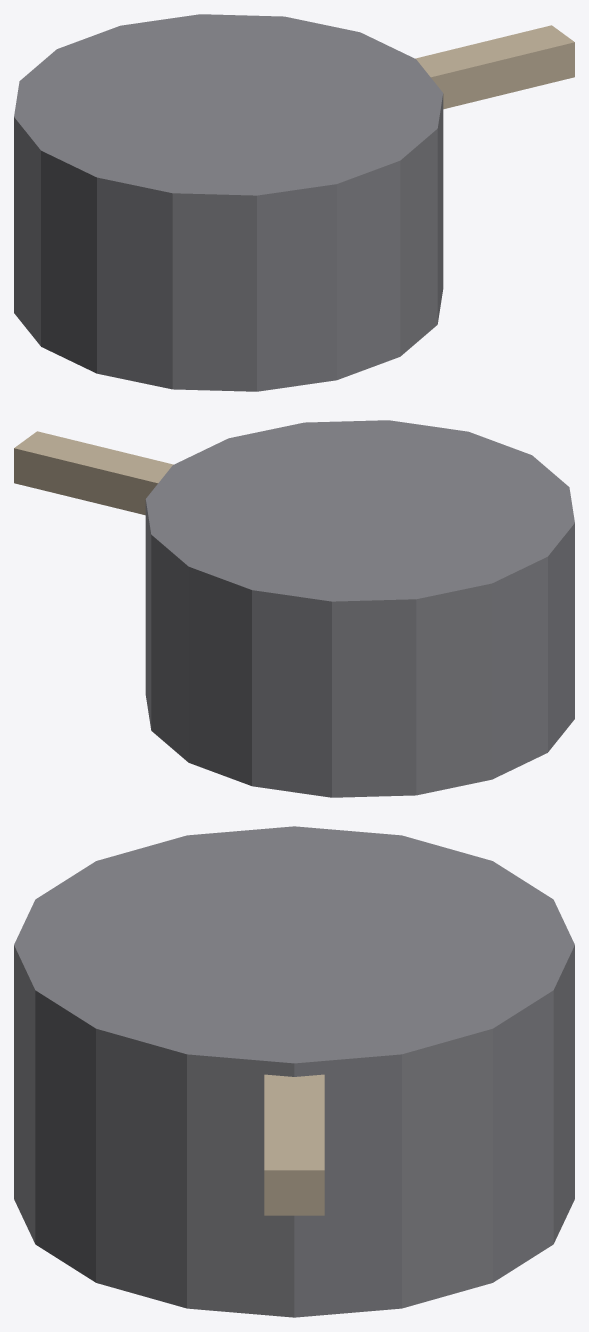
File: kit_aces_panela.glb
3 renders of one model, top to bottom at view 1: azimuth 30°, elevation 25°; view 2: azimuth 150°, elevation 25°; view 3: azimuth 270°, elevation 25°, orthographic. The views are drawn at different scales.
Parts seen in each view (by area): view 1: KIT_Aces_Panela_v01; view 2: KIT_Aces_Panela_v01; view 3: KIT_Aces_Panela_v01.
Boxes of the visible parts, x1,y1,x2,y2 form: KIT_Aces_Panela_v01: (14,14,574,391); KIT_Aces_Panela_v01: (14,420,574,797); KIT_Aces_Panela_v01: (14,826,574,1317).
Bounding box in the file's own units: 0.39 × 0.14 × 0.28.
